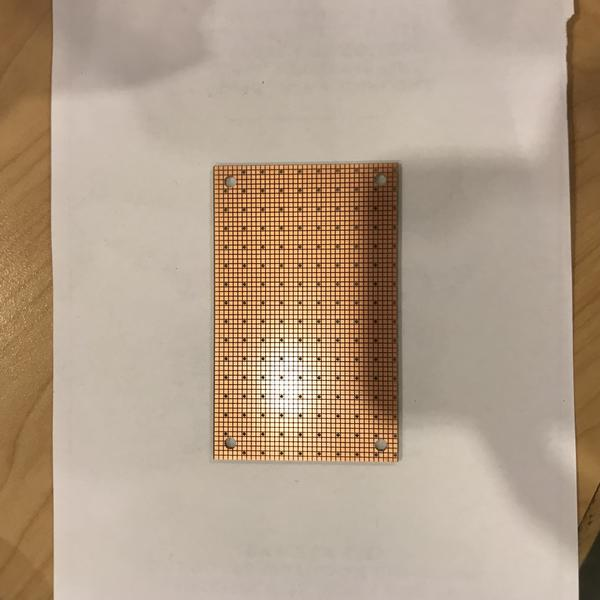board: (212, 161, 400, 465)
